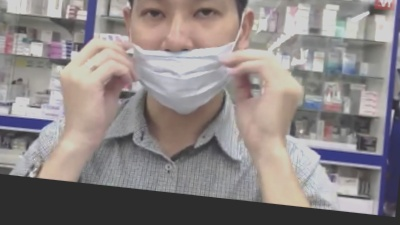mask_weared_incorrect: (131, 1, 245, 119)
